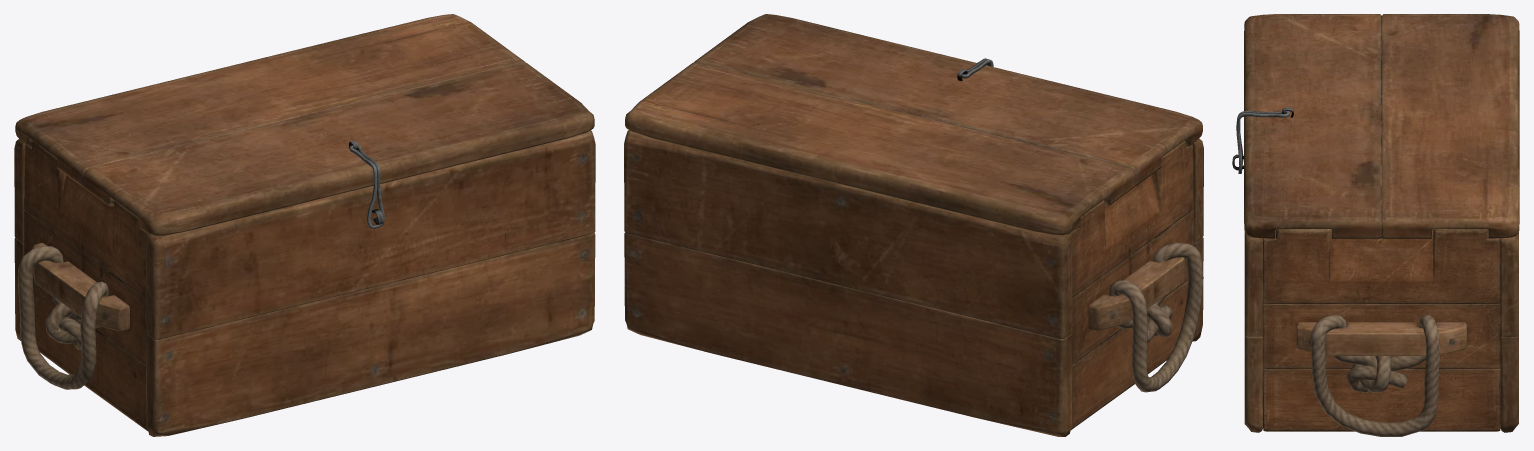
File: wooden_crate_01.gltf
3 renders of one model, left to right at view 1: azimuth 30°, elevation 25°; view 2: azimuth 150°, elevation 25°; view 3: azimuth 270°, elevation 25°, orthographic. The views are drawn at different scales.
Visible parts, largest first — view 1: wooden_crate_01, wooden_crate_01_lid, wooden_crate_01_latch; view 2: wooden_crate_01, wooden_crate_01_lid; view 3: wooden_crate_01_lid, wooden_crate_01, wooden_crate_01_latch.
Boxes of the visible parts, x1=… form: wooden_crate_01: x1=14, y1=130, x2=595, y2=436; wooden_crate_01_lid: x1=15, y1=14, x2=594, y2=236; wooden_crate_01_latch: x1=349, y1=145, x2=384, y2=228; wooden_crate_01: x1=624, y1=130, x2=1203, y2=436; wooden_crate_01_lid: x1=625, y1=14, x2=1202, y2=235; wooden_crate_01_lid: x1=1244, y1=14, x2=1519, y2=238; wooden_crate_01: x1=1232, y1=154, x2=1518, y2=436; wooden_crate_01_latch: x1=1236, y1=111, x2=1289, y2=173.
Size of the model in its own units: 0.8253 by 0.3496 by 0.409.
Materials: 1 (1 with a texture image).
